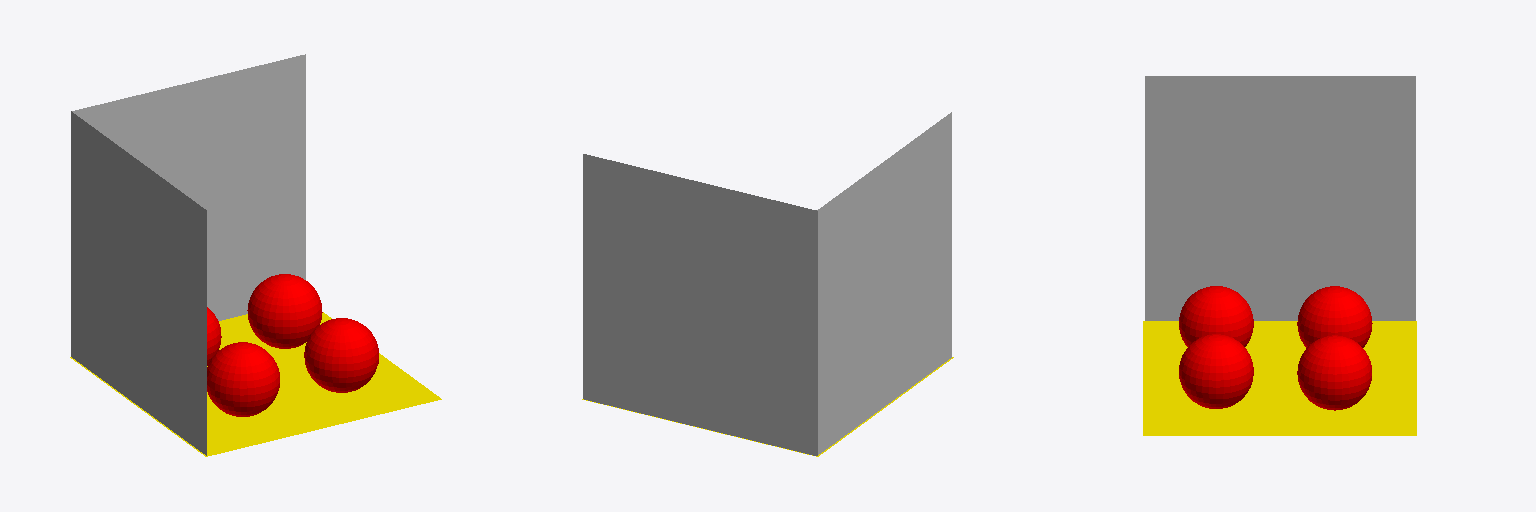
File: redballs.obj
3 views of the same model, side by side, from view 1: azimuth 30°, elevation 25°; view 2: azimuth 150°, elevation 25°; view 3: azimuth 270°, elevation 25° (orthographic).
Parts seen in each view (by area): view 1: Plane.002, Plane.001, Plane, Sphere_Sphere.004, Sphere.001_Sphere.005, Sphere.003_Sphere.007, Sphere.002_Sphere.006; view 2: Plane.001, Plane.002; view 3: Plane.002, Plane, Sphere_Sphere.004, Sphere.003_Sphere.007, Sphere.002_Sphere.006, Sphere.001_Sphere.005.
Boxes of the visible parts, x1=… form: Plane.002: x1=71, y1=111, x2=206, y2=455; Plane.001: x1=72, y1=54, x2=305, y2=320; Plane: x1=70, y1=312, x2=441, y2=456; Sphere_Sphere.004: x1=304, y1=318, x2=378, y2=392; Sphere.001_Sphere.005: x1=207, y1=342, x2=279, y2=416; Sphere.003_Sphere.007: x1=247, y1=274, x2=322, y2=348; Sphere.002_Sphere.006: x1=207, y1=307, x2=221, y2=365; Plane.001: x1=583, y1=154, x2=817, y2=455; Plane.002: x1=817, y1=112, x2=951, y2=454; Plane.002: x1=1145, y1=76, x2=1415, y2=320; Plane: x1=1143, y1=321, x2=1416, y2=435; Sphere_Sphere.004: x1=1179, y1=334, x2=1253, y2=408; Sphere.003_Sphere.007: x1=1297, y1=335, x2=1371, y2=410; Sphere.002_Sphere.006: x1=1297, y1=286, x2=1372, y2=347; Sphere.001_Sphere.005: x1=1179, y1=286, x2=1253, y2=346.
Bounding box in the file's own units: 6.46 × 6.45 × 6.46.